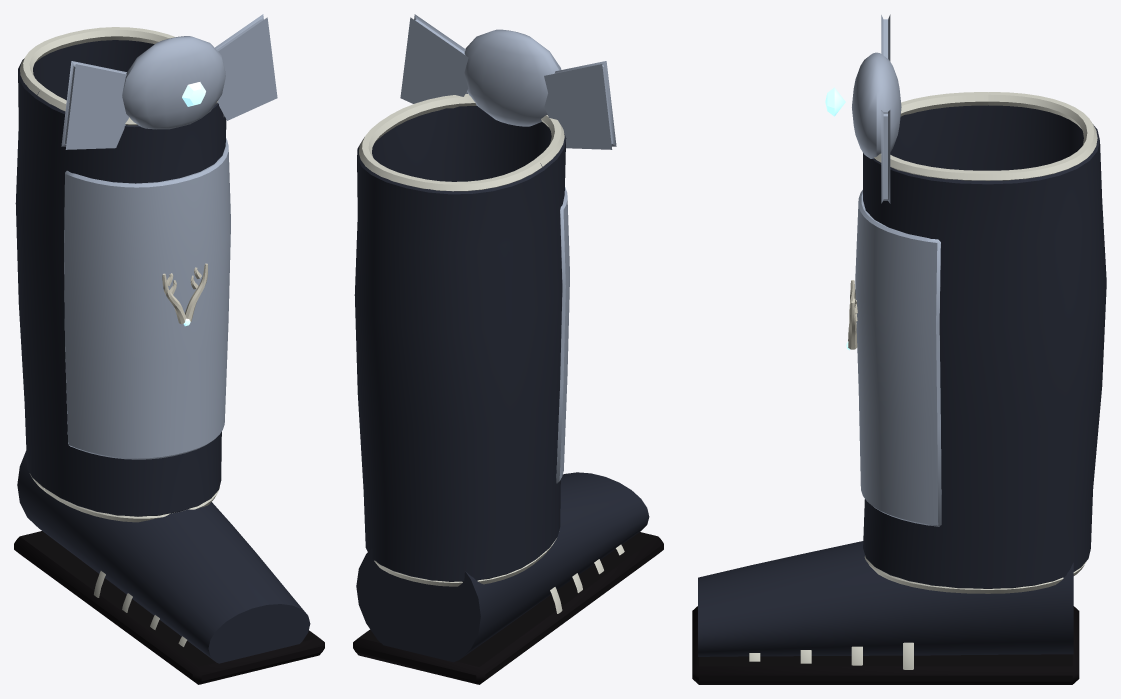
Rendered from boss_pale_requiem_boots_2.glb.
3 views of the same model, side by side, from view 1: azimuth 30°, elevation 25°; view 2: azimuth 150°, elevation 25°; view 3: azimuth 270°, elevation 25° (orthographic). The views are drawn at different scales.
Visible parts, largest first — view 1: boss_pale_requiem_boots_2, AT_foot_R; view 2: boss_pale_requiem_boots_2, AT_foot_R; view 3: boss_pale_requiem_boots_2, AT_foot_R.
Boxes of the visible parts, x1=… form: boss_pale_requiem_boots_2: x1=15, y1=14, x2=277, y2=522; AT_foot_R: x1=14, y1=451, x2=324, y2=684; boss_pale_requiem_boots_2: x1=354, y1=14, x2=616, y2=586; AT_foot_R: x1=353, y1=472, x2=663, y2=684; boss_pale_requiem_boots_2: x1=825, y1=14, x2=1106, y2=593; AT_foot_R: x1=692, y1=541, x2=1079, y2=684.
Bounding box in the file's own units: 0.2244 × 0.5768 × 0.3641.
